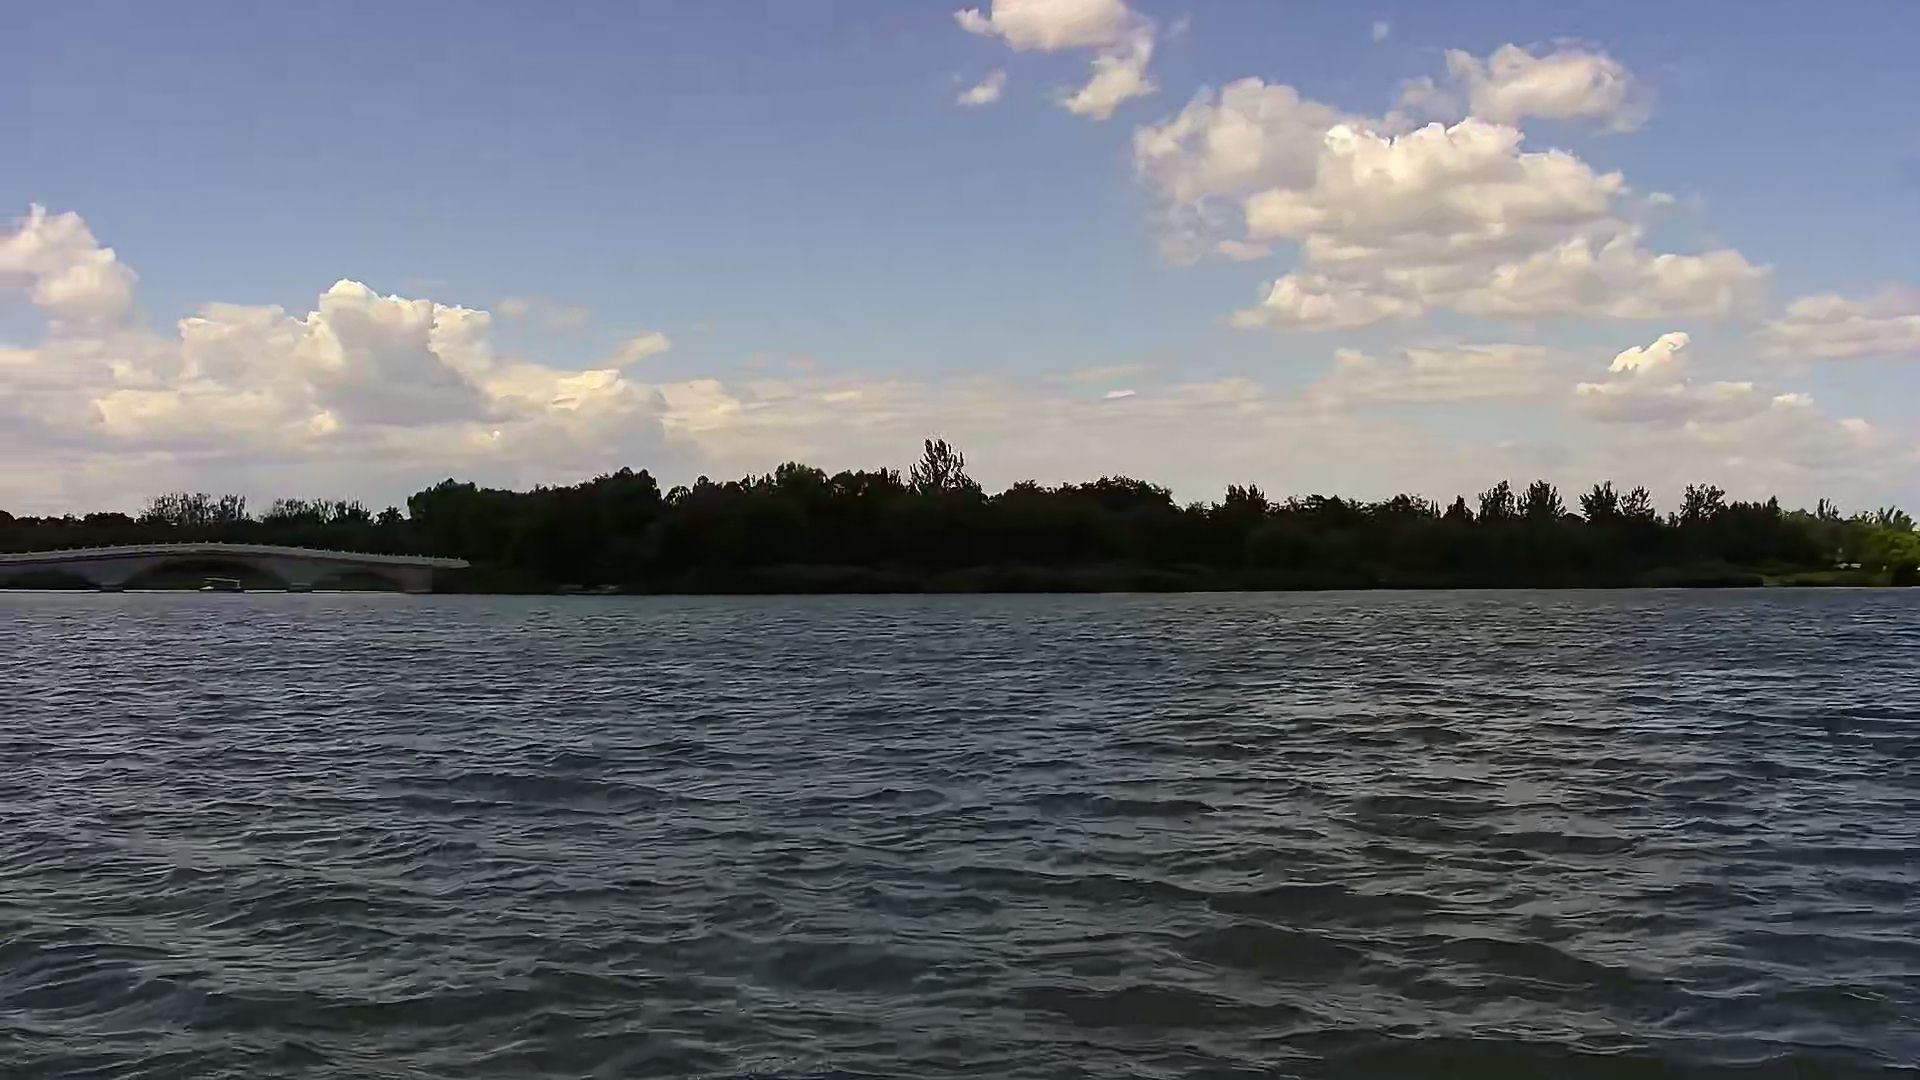boat: (199, 571, 251, 597)
bridge: (1, 537, 468, 599)
